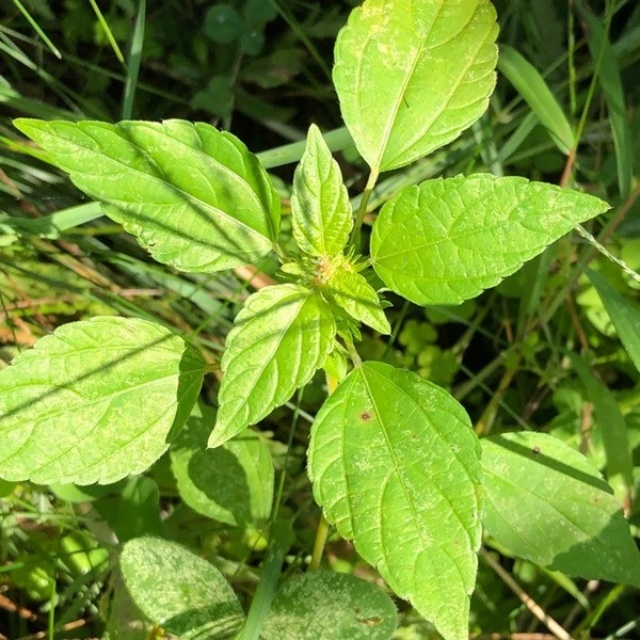obstacle: (23, 60, 573, 618)
